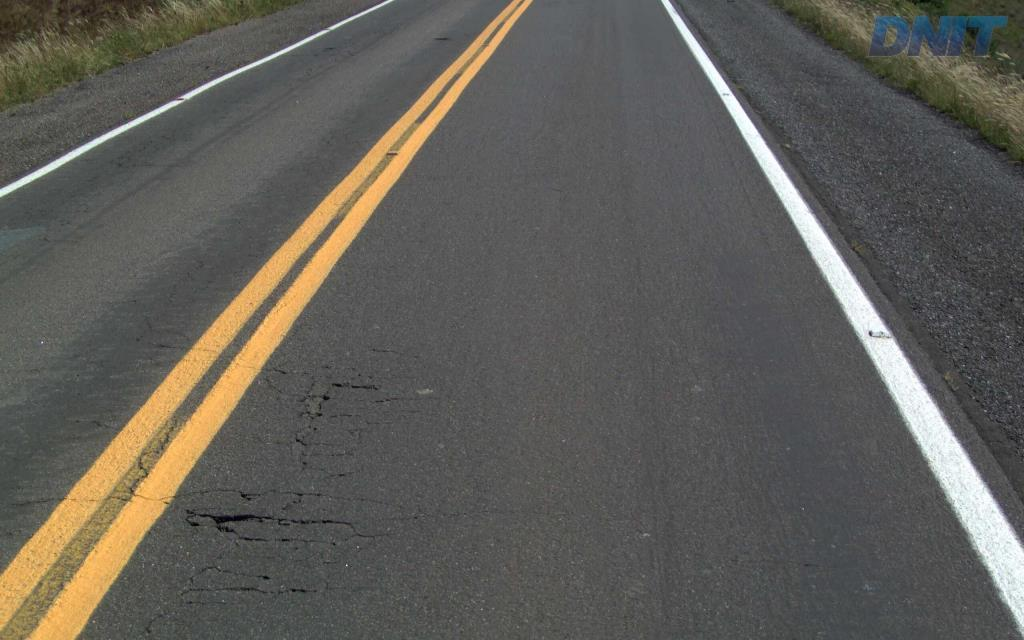crack: (182, 508, 353, 541)
